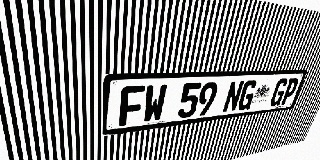5: (177, 82, 202, 119)
9: (195, 82, 219, 116)
F: (119, 85, 145, 126)
G: (236, 80, 259, 111), (268, 78, 289, 107)
N: (222, 80, 245, 113)
P: (279, 78, 300, 105)
W: (142, 84, 168, 123)
